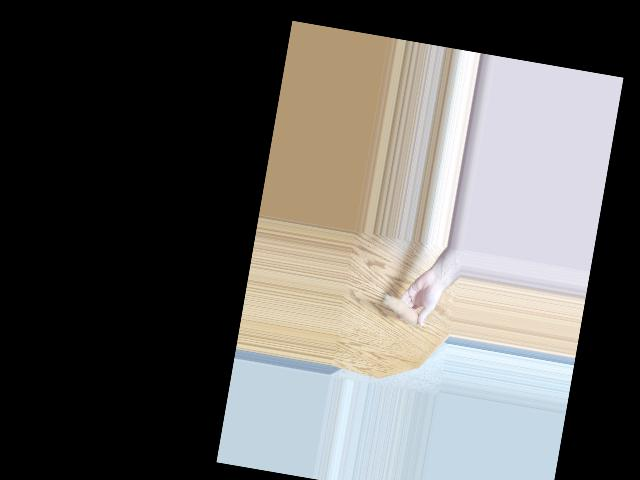sweet_potato: (380, 292, 426, 327)
